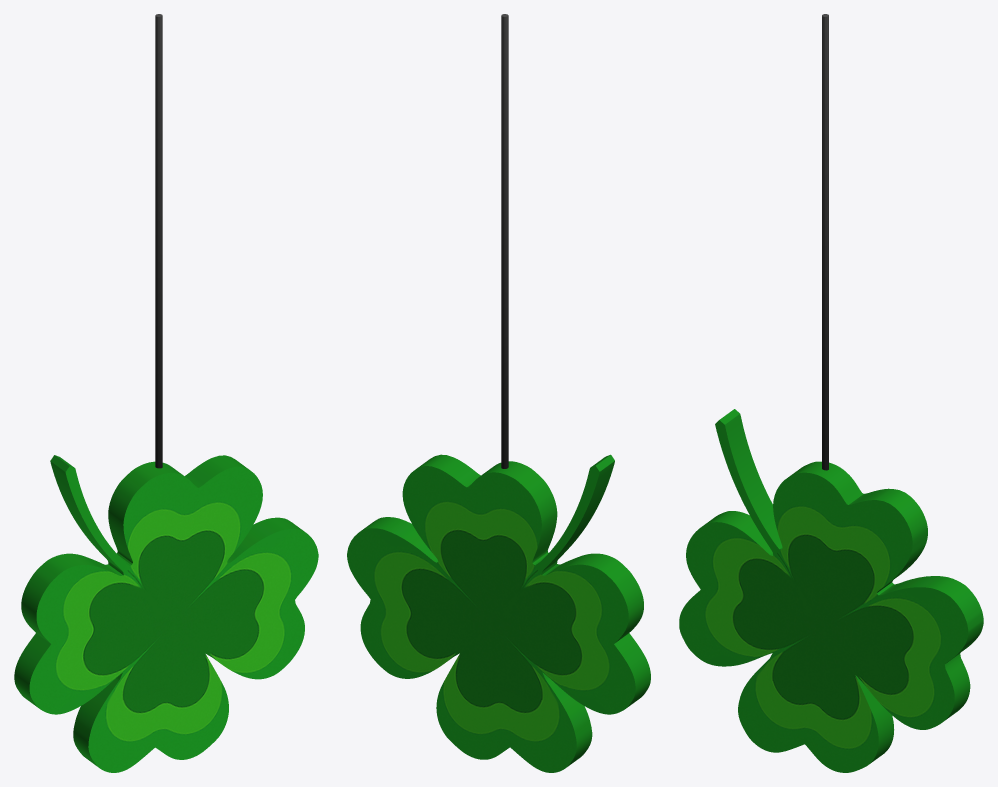
The model's file is Leaf Clover.fbx.
3 views of the same model, side by side, from view 1: azimuth 30°, elevation 25°; view 2: azimuth 150°, elevation 25°; view 3: azimuth 330°, elevation 25° (orthographic).
Parts seen in each view (by area): view 1: Leaf_Clover; view 2: Leaf_Clover; view 3: Leaf_Clover.
Boxes of the visible parts, box(x1,y1,x2,y2) form: Leaf_Clover: box(14, 14, 318, 772); Leaf_Clover: box(347, 14, 650, 772); Leaf_Clover: box(679, 14, 983, 772).
Size of the model in its own units: 232 by 570 by 21.85.
